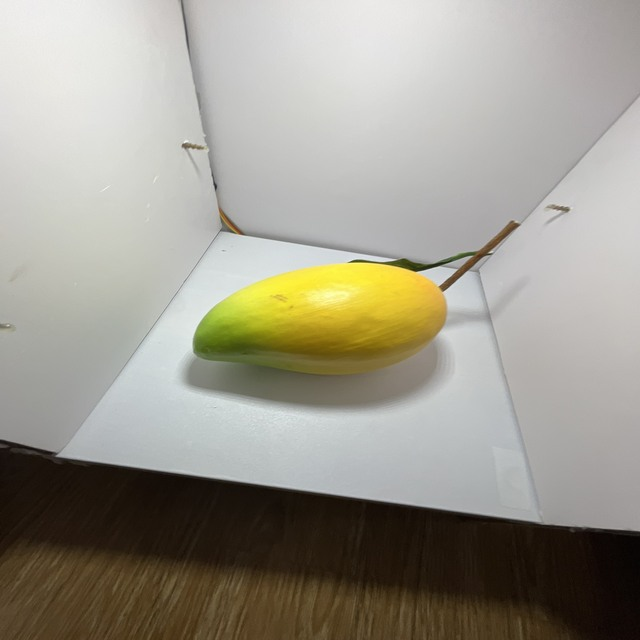Xoai: (168, 216, 472, 436)
